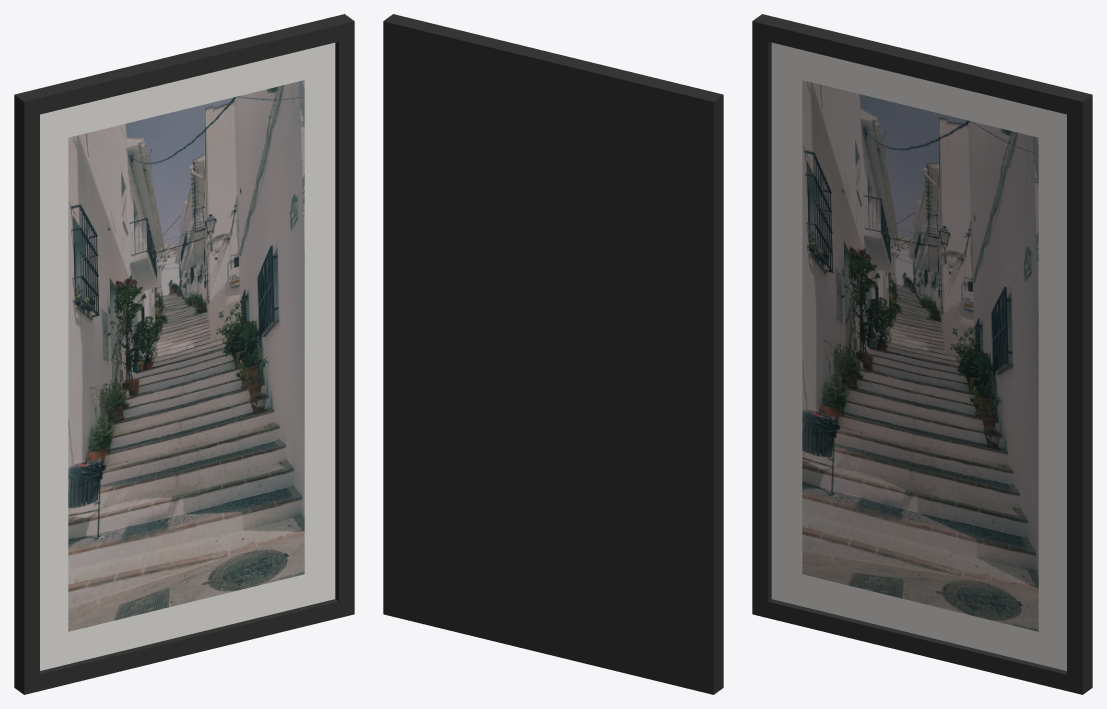
File: uppfor-60.gltf
3 renders of one model, left to right at view 1: azimuth 30°, elevation 25°; view 2: azimuth 150°, elevation 25°; view 3: azimuth 330°, elevation 25°, orthographic.
Parts seen in each view (by area): view 1: tavla; view 2: tavla; view 3: tavla.
Boxes of the visible parts, x1,y1,x2,y2 form: tavla: [14, 14, 354, 694]; tavla: [383, 14, 723, 694]; tavla: [752, 14, 1092, 694].
Size of the model in its own units: 0.42 by 0.72 by 0.022.
3 materials, 1 textured.
